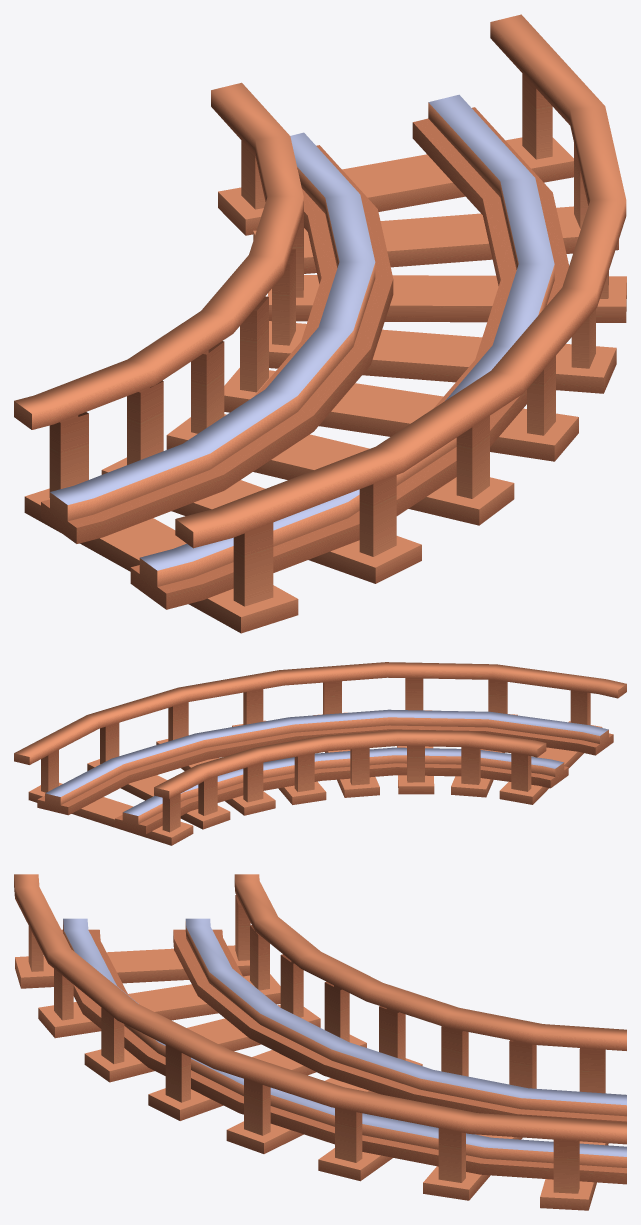
The model's file is coaster-wood-corner-small.glb.
3 views of the same model, one above another, from view 1: azimuth 30°, elevation 25°; view 2: azimuth 150°, elevation 25°; view 3: azimuth 270°, elevation 25° (orthographic). The views are drawn at different scales.
Parts seen in each view (by area): view 1: coaster-wood-corner-small; view 2: coaster-wood-corner-small; view 3: coaster-wood-corner-small.
Part boxes in pixels (x1=…): coaster-wood-corner-small: x1=14, y1=14, x2=626, y2=633; coaster-wood-corner-small: x1=14, y1=662, x2=626, y2=845; coaster-wood-corner-small: x1=14, y1=874, x2=626, y2=1210.
Bounding box in the file's own units: 2.5 × 0.35 × 2.5.
1 material, 1 textured.
